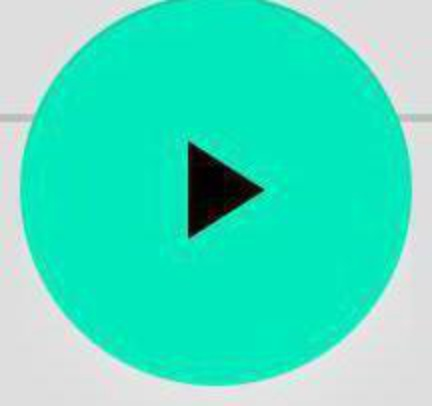ImgButton: (1, 1, 431, 405)
